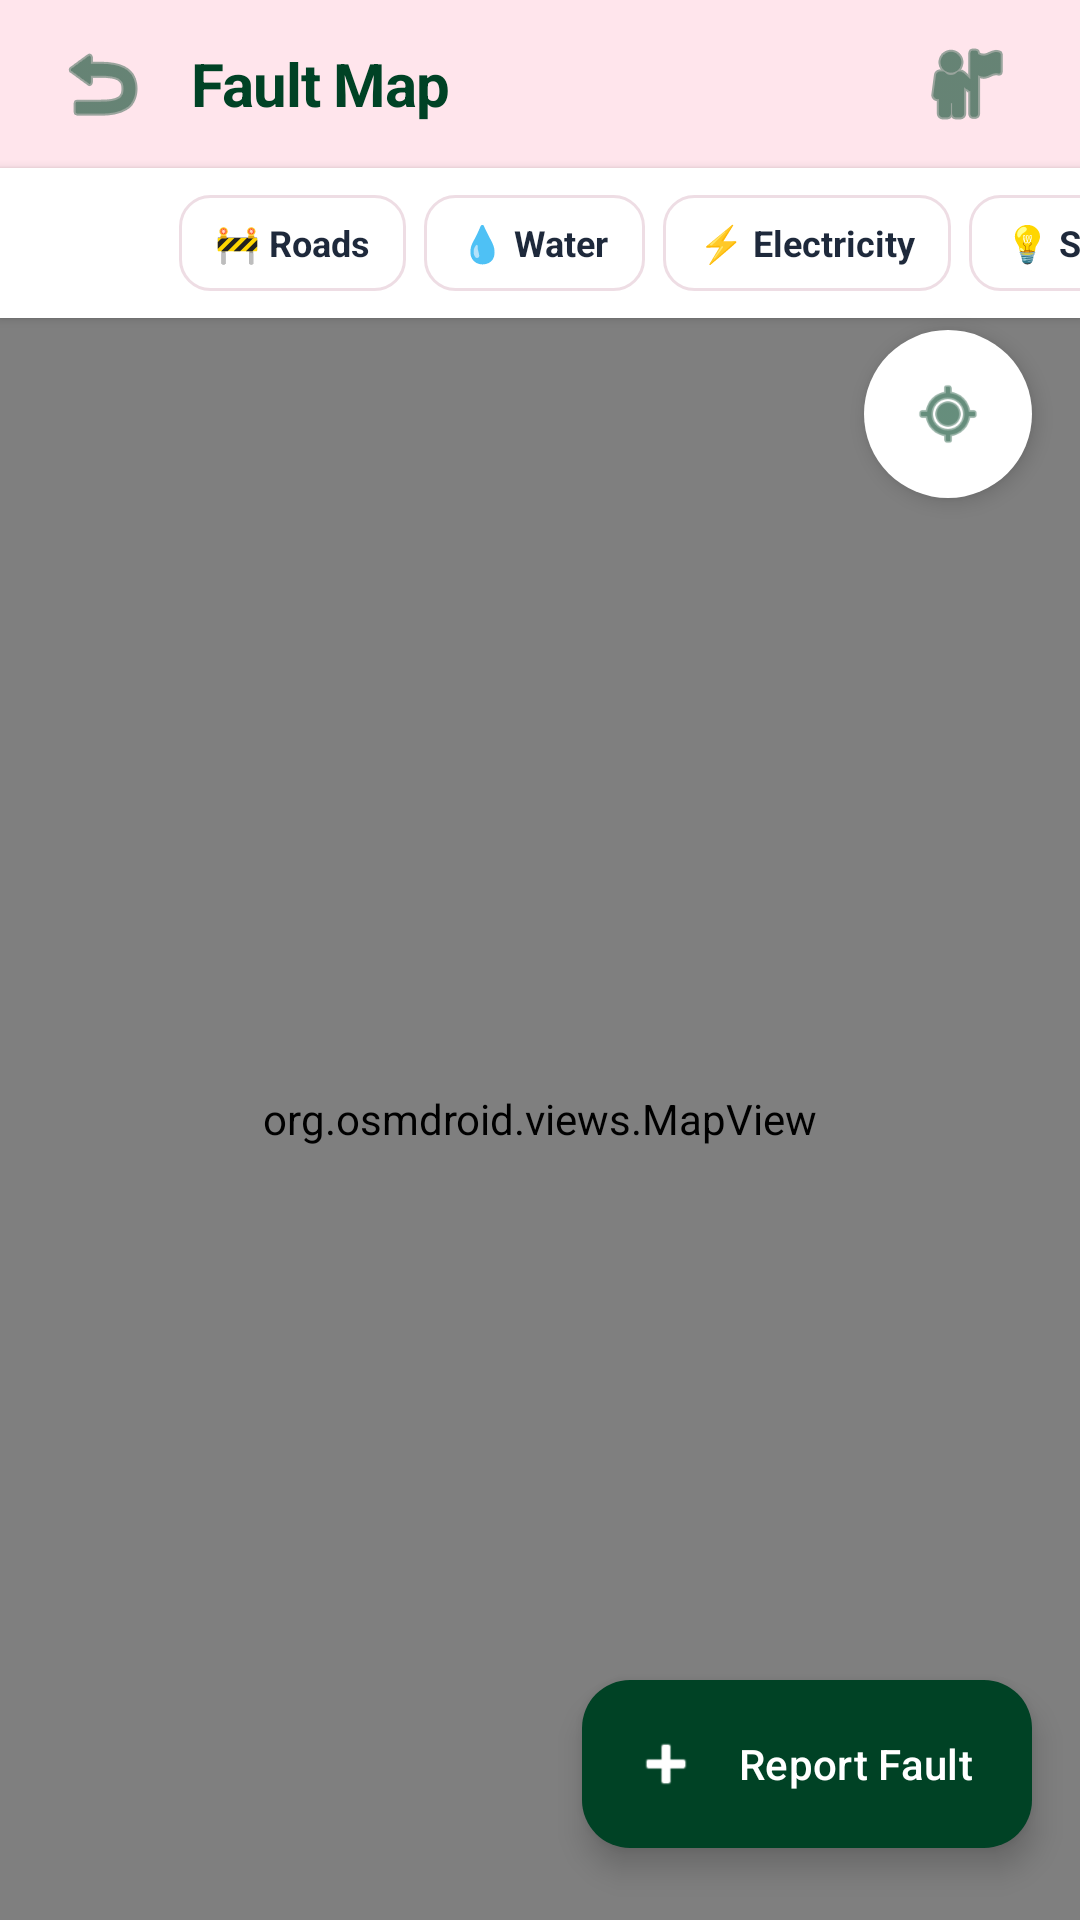

Locate icon controls on the screen. Image size 1080*1920, boxes as (x1,y1,x2,y2).
Back: (69,53,138,116)
Recenter: (864,330,1032,498)
